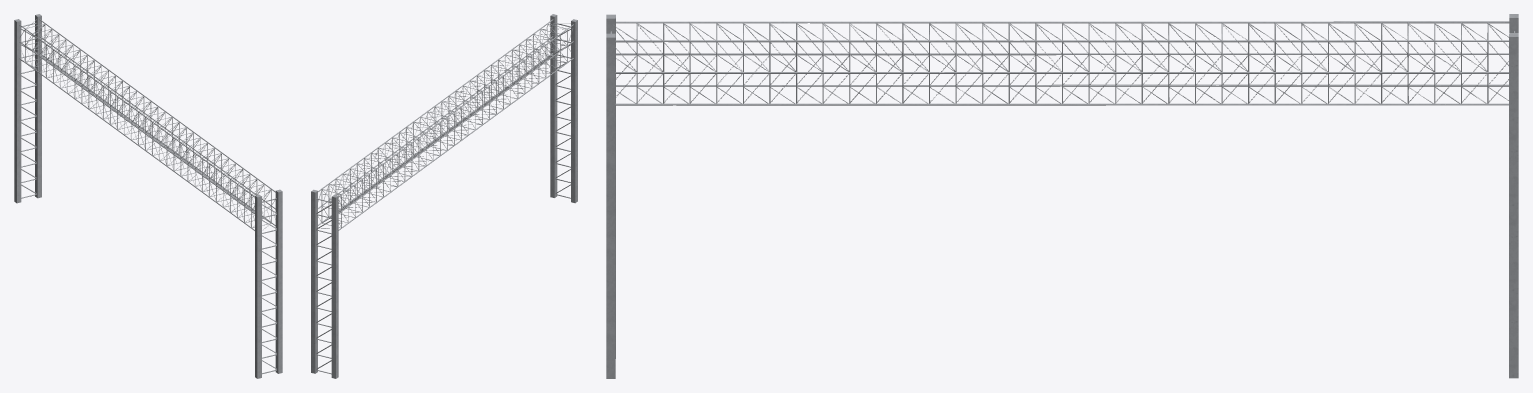
Rendered from longmenjia.glb.
The picture shows the model from 3 angles, left to right: view 1: azimuth 30°, elevation 25°; view 2: azimuth 150°, elevation 25°; view 3: azimuth 270°, elevation 25°; orthographic projection. The views are drawn at different scales.
Parts seen in each view (by area): view 1: longmenjia; view 2: longmenjia; view 3: longmenjia.
Boxes of the visible parts, x1=… form: longmenjia: x1=14, y1=14, x2=282, y2=378; longmenjia: x1=311, y1=14, x2=577, y2=378; longmenjia: x1=606, y1=14, x2=1518, y2=378.
Bounding box in the file's own units: 1.18 × 8 × 19.38.
Materials: 1 (1 with a texture image).
